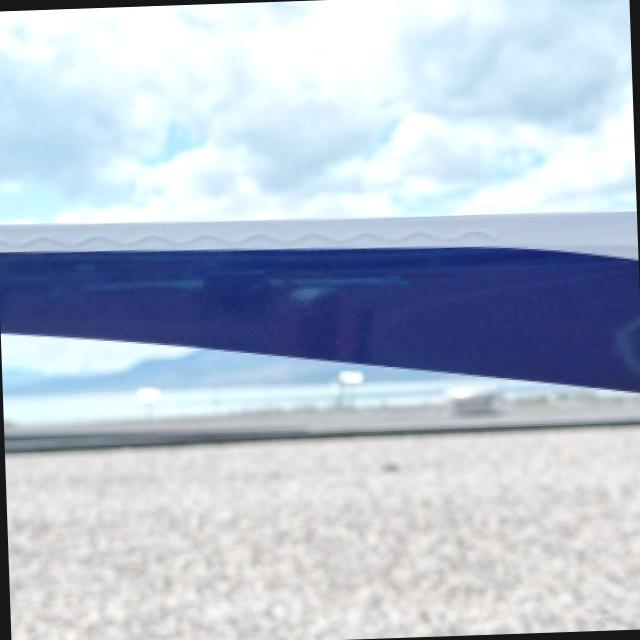healthy: (2, 357, 640, 446)
